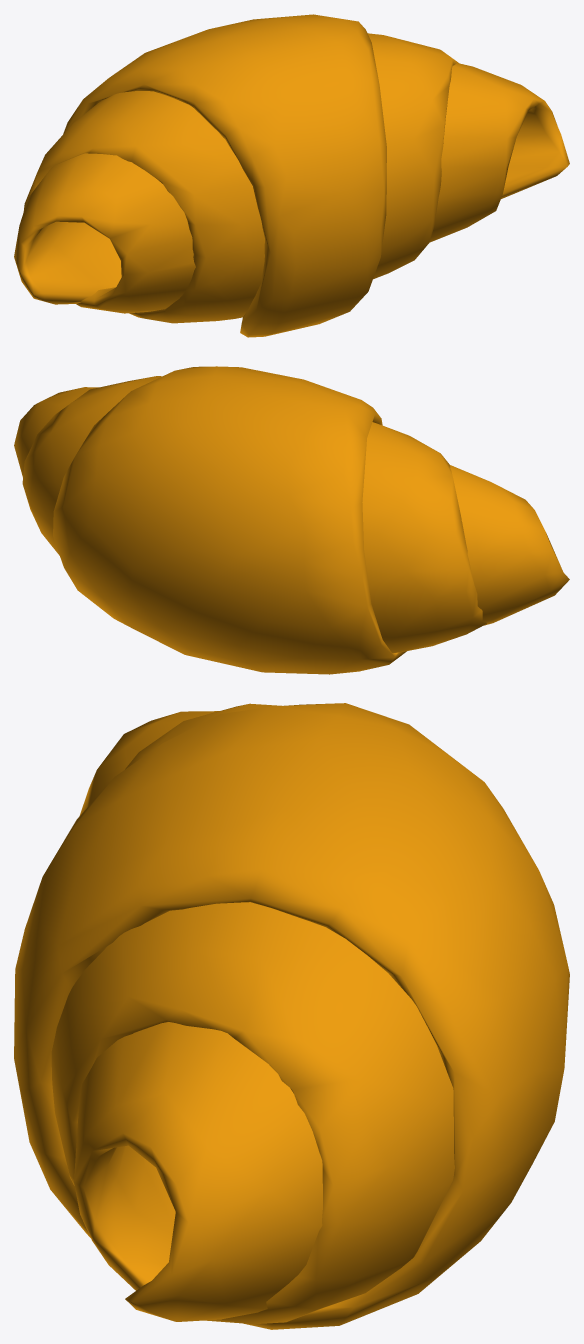
File: Croissant.fbx
3 views of the same model, one above another, from view 1: azimuth 30°, elevation 25°; view 2: azimuth 150°, elevation 25°; view 3: azimuth 270°, elevation 25° (orthographic). The views are drawn at different scales.
Visible parts, largest first — view 1: Plane; view 2: Plane; view 3: Plane.
Part boxes in pixels (x1,y1,x2,y2): Plane: (14,14,569,337); Plane: (14,366,569,674); Plane: (14,703,569,1329).
Bounding box in the file's own units: 196 × 93.54 × 94.46.
